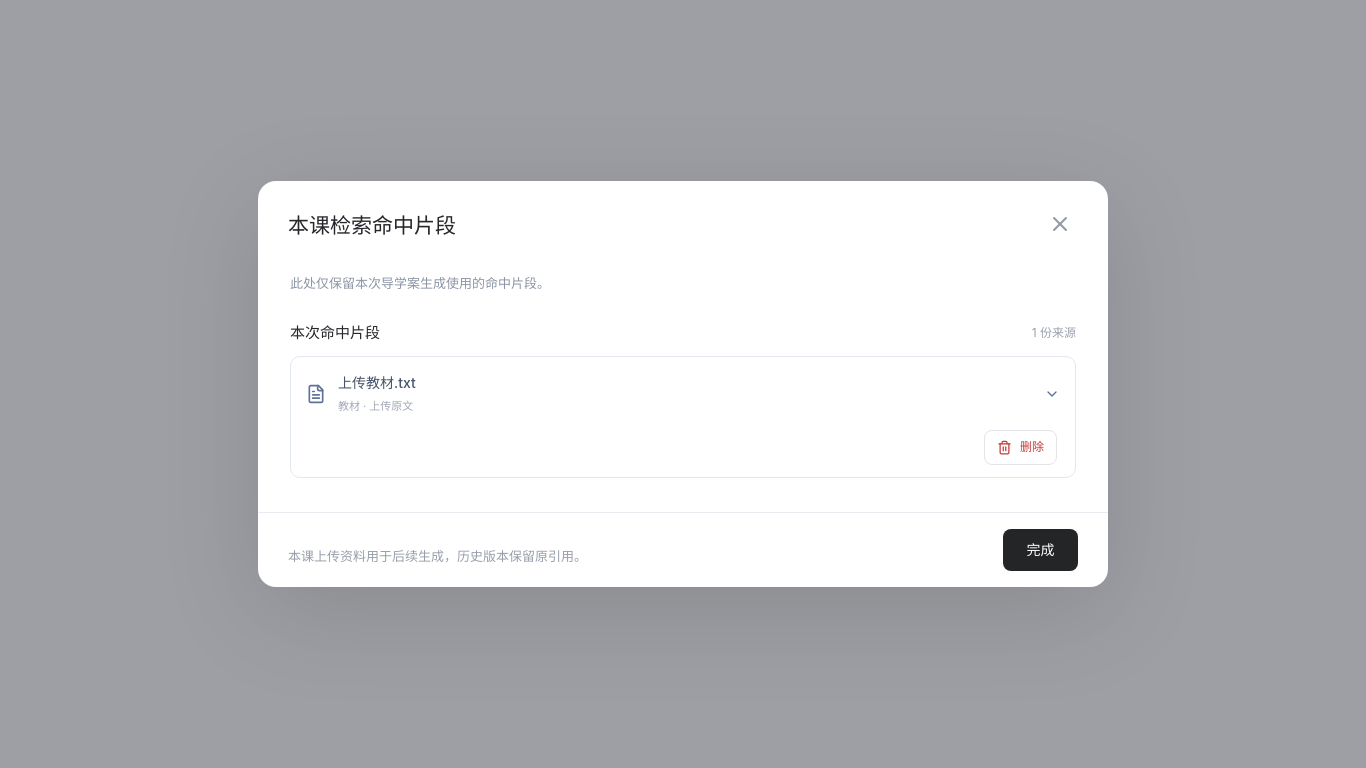
Scenario: uploaded files can be deleted with visible failure feedback
Click the button with aria-label "删除资料 上传教材.txt". click: (1020, 448)
box: [984, 430, 1057, 465]
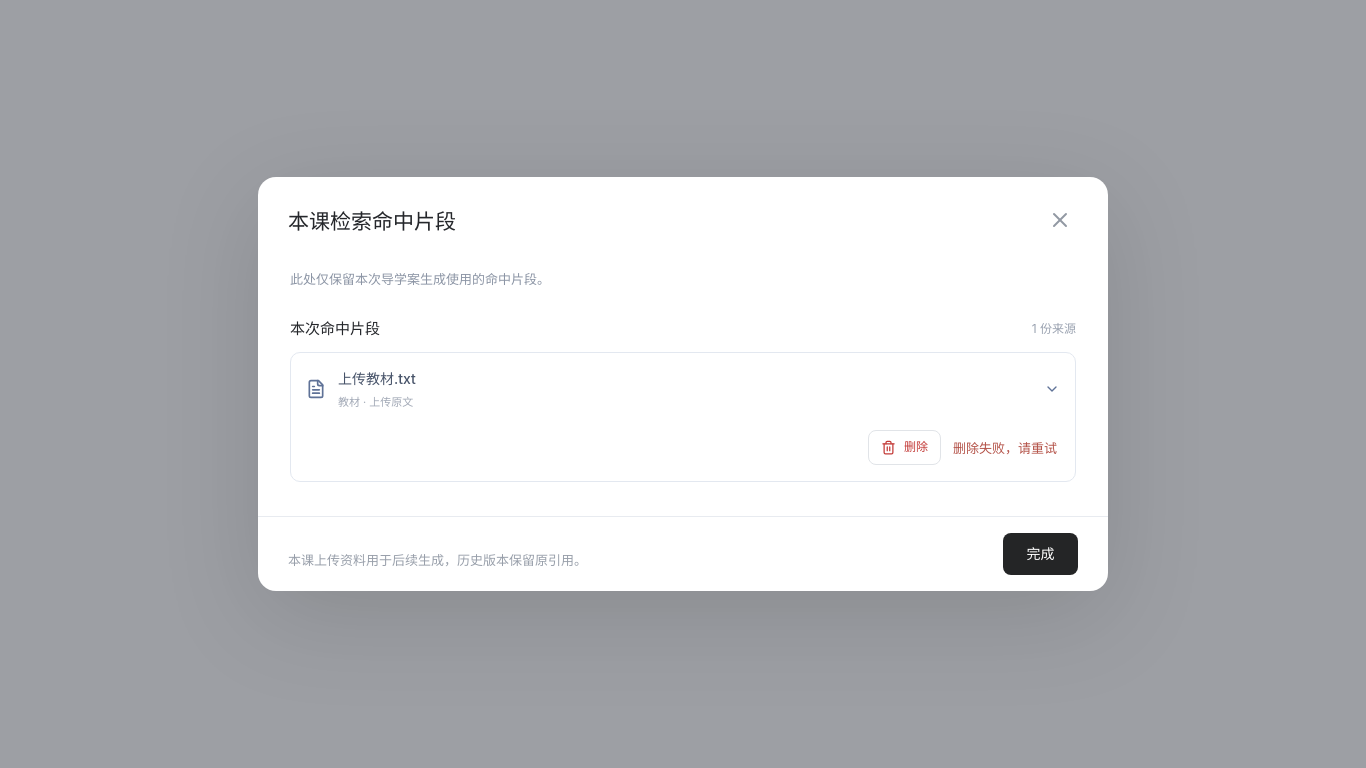
expect the message reads "删除失败，请重试": met, box [953, 440, 1057, 456]
